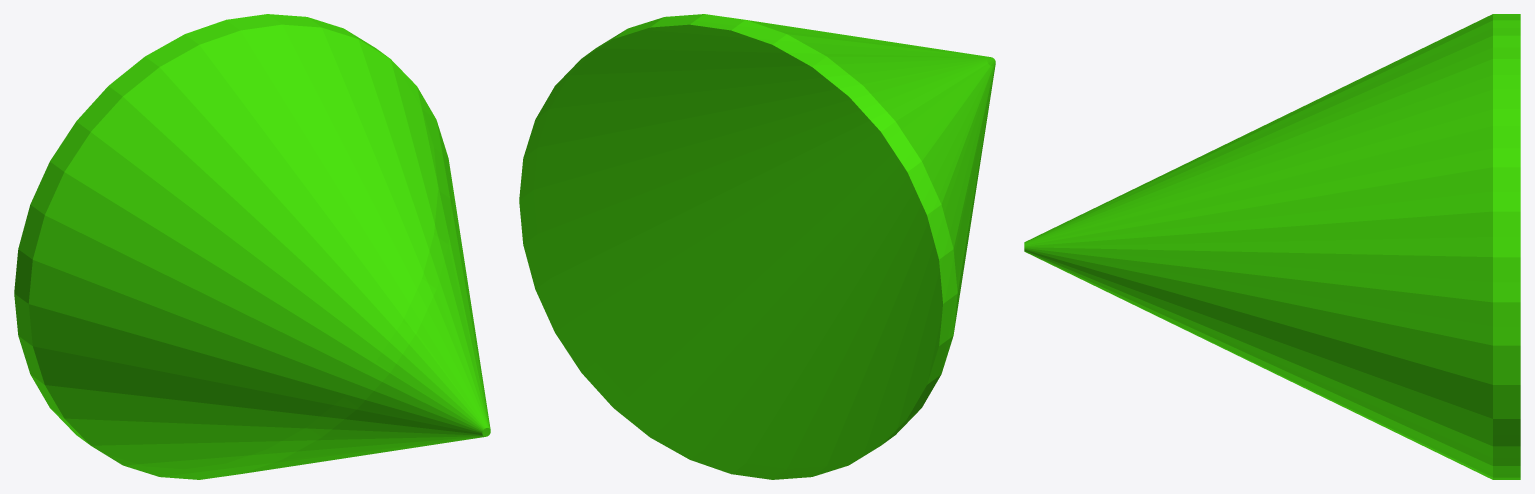
File: GreenCone.fbx
The picture shows the model from 3 angles, left to right: view 1: azimuth 30°, elevation 25°; view 2: azimuth 150°, elevation 25°; view 3: azimuth 270°, elevation 25°; orthographic projection. The views are drawn at different scales.
Visible parts, largest first — view 1: Cone; view 2: Cone; view 3: Cone.
Part boxes in pixels (x1,y1,x2,y2): Cone: [14, 14, 490, 479]; Cone: [519, 14, 995, 479]; Cone: [1024, 14, 1520, 479].
Bounding box in the file's own units: 200 × 200 × 213.
